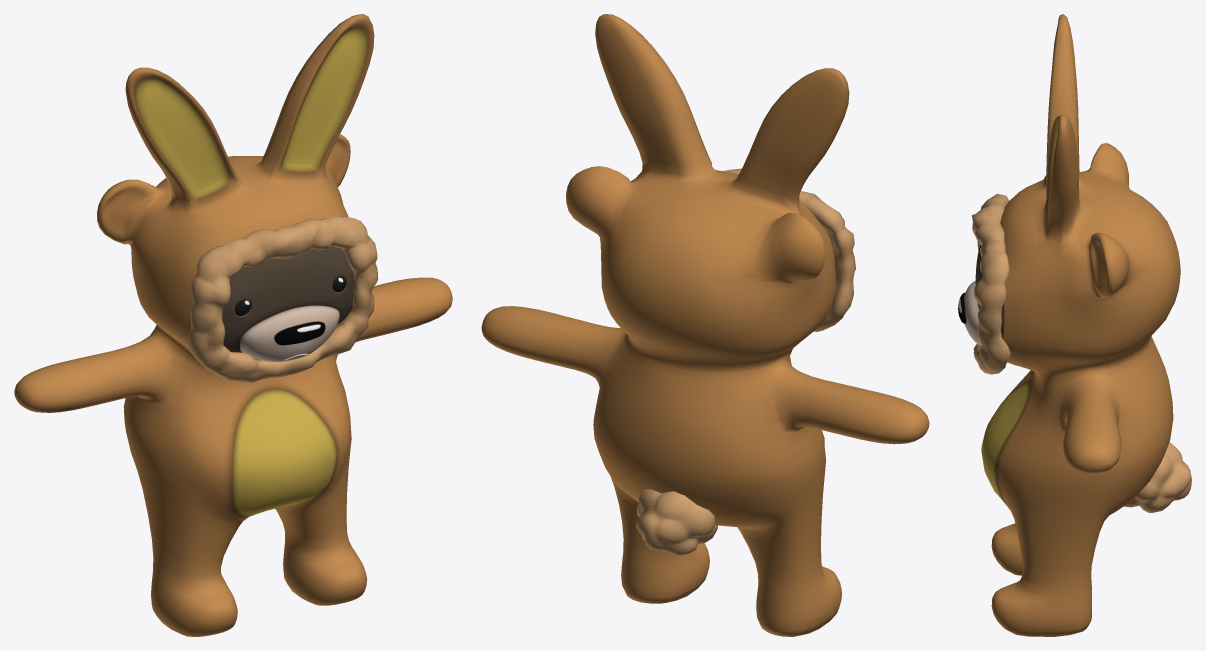
Rendered from Nimbus Teddy.fbx.
3 views of the same model, side by side, from view 1: azimuth 30°, elevation 25°; view 2: azimuth 150°, elevation 25°; view 3: azimuth 270°, elevation 25° (orthographic). The views are drawn at different scales.
Visible parts, largest first — view 1: polySurface16; view 2: polySurface16; view 3: polySurface16.
Part boxes in pixels (box(x1,y1,x2,y2)): polySurface16: box(14, 14, 452, 636); polySurface16: box(481, 14, 929, 636); polySurface16: box(958, 14, 1191, 636).
Size of the model in its own units: 17.12 by 21.19 by 8.47.
1 material, 1 textured.
